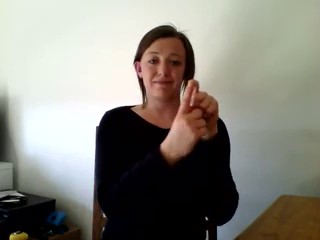P: (167, 73, 225, 152)
